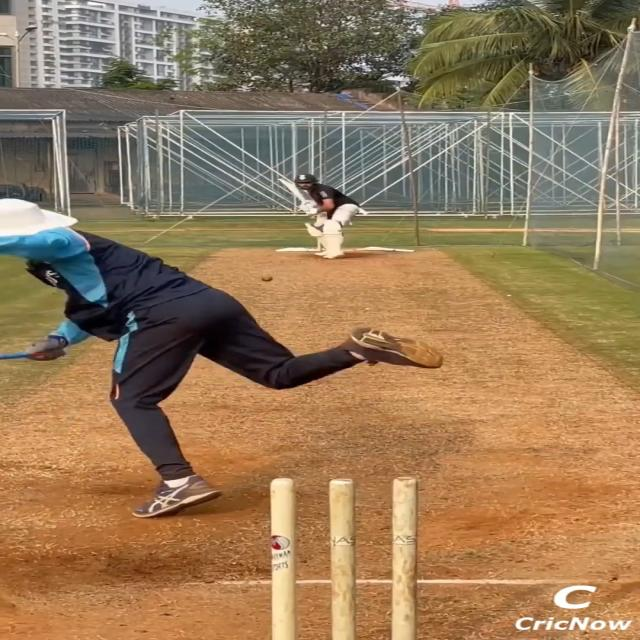ball: (261, 275, 273, 282)
stump: (266, 477, 418, 640)
